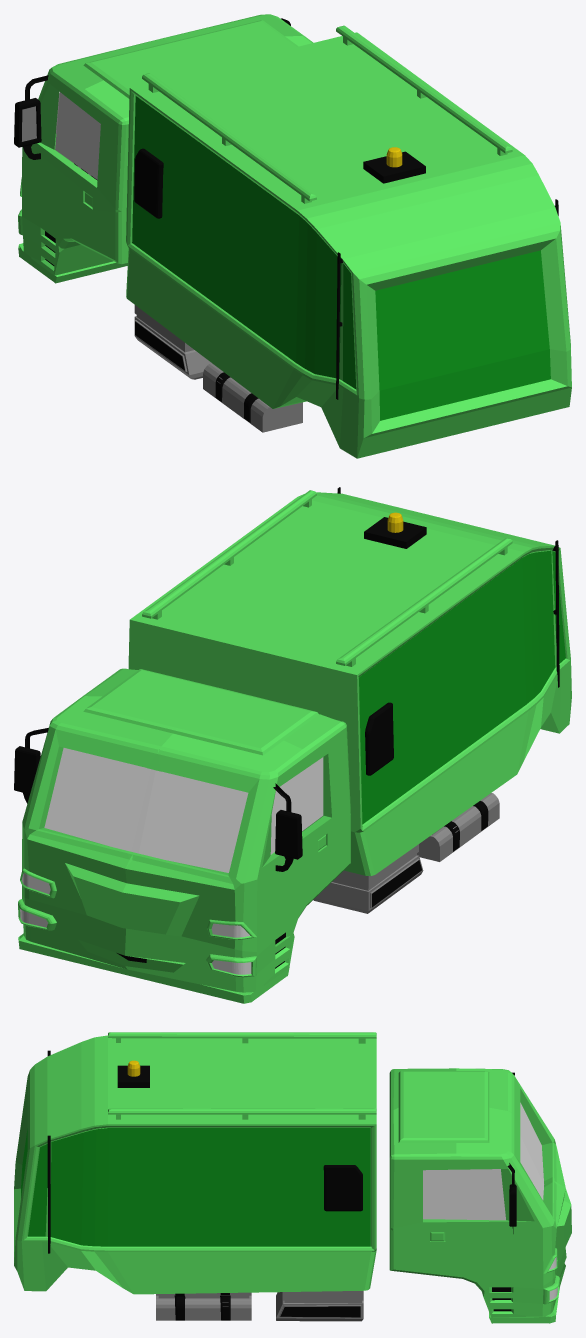
Rendered from Garbage_Collector_3D.fbx.
The picture shows the model from 3 angles, top to bottom: view 1: azimuth 30°, elevation 25°; view 2: azimuth 150°, elevation 25°; view 3: azimuth 270°, elevation 25°; orthographic projection. The views are drawn at different scales.
Visible parts, largest first — view 1: Cube, Cube.003, Cube.002; view 2: Cube, Cube.003, Cube.006, Cube.005, Cube.002; view 3: Cube, Cube.003, Cube.002, Cube.001.
Part boxes in pixels (left/top/right/bottom): Cube: left=14, top=14, right=571, bottom=458; Cube.003: left=55, top=92, right=100, bottom=179; Cube.002: left=363, top=151, right=425, bottom=183; Cube: left=14, top=487, right=571, bottom=1003; Cube.003: left=44, top=748, right=323, bottom=872; Cube.006: left=18, top=899, right=256, bottom=977; Cube.005: left=20, top=868, right=256, bottom=940; Cube.002: left=364, top=517, right=426, bottom=548; Cube: left=14, top=1032, right=571, bottom=1323; Cube.003: left=423, top=1102, right=544, bottom=1220; Cube.002: left=117, top=1065, right=149, bottom=1087; Cube.001: left=174, top=1293, right=230, bottom=1320.
Size of the model in its own units: 412 by 374 by 875.
